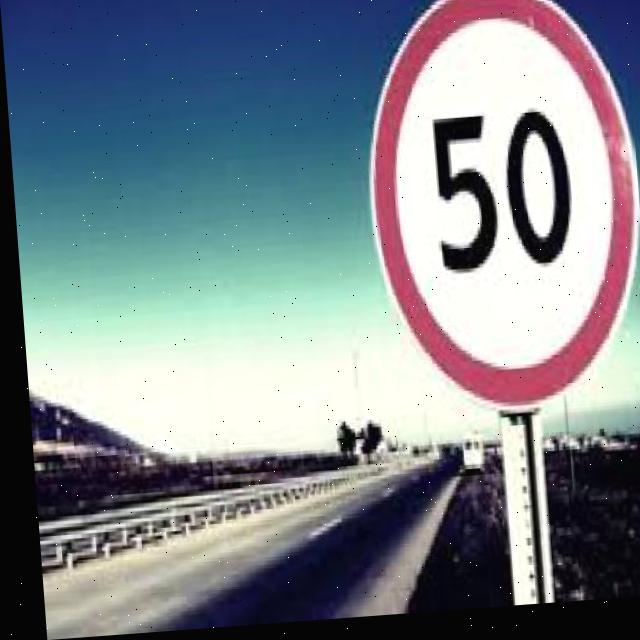Speed limit 50: (351, 1, 640, 428)
